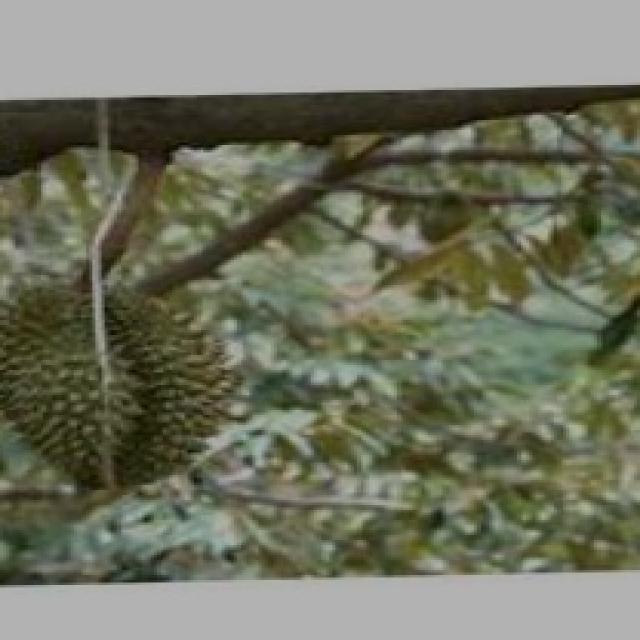fruit: (0, 265, 262, 517)
